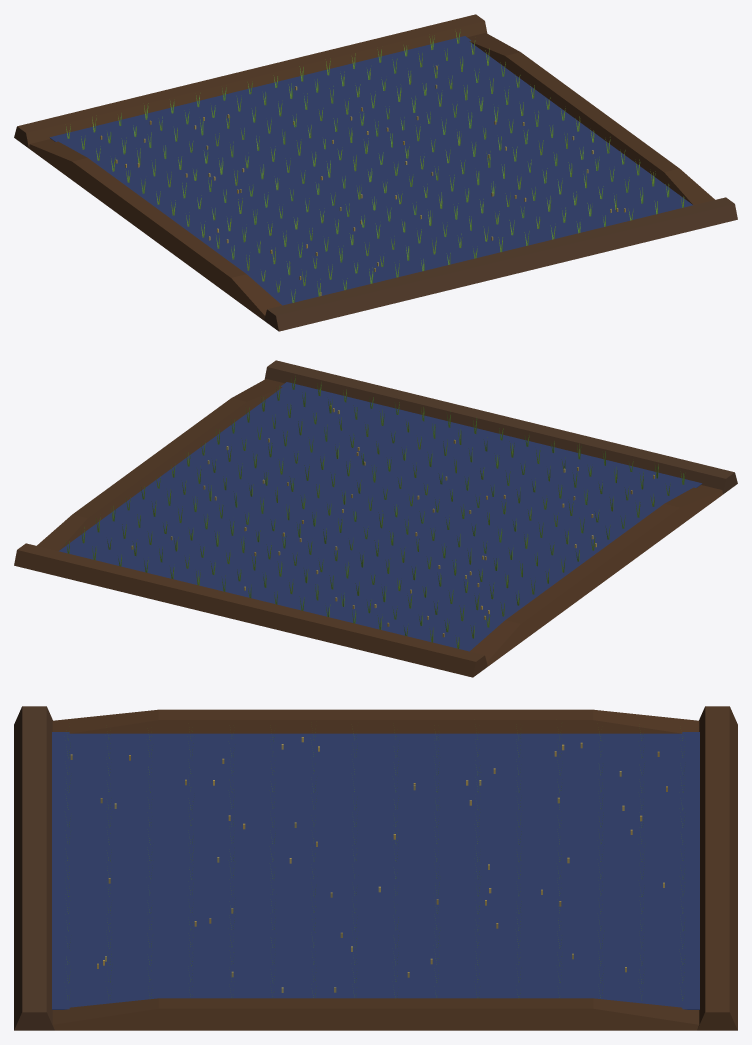
Rendered from ENV_Paddy_Plot_A.glb.
3 renders of one model, top to bottom at view 1: azimuth 30°, elevation 25°; view 2: azimuth 150°, elevation 25°; view 3: azimuth 270°, elevation 25°, orthographic. The views are drawn at different scales.
Parts seen in each view (by area): view 1: WATER_STATE_irrigated, ENV_Paddy_Plot_A_Mesh, STATE_irrigated, STATE_dry; view 2: WATER_STATE_irrigated, ENV_Paddy_Plot_A_Mesh, STATE_irrigated, STATE_dry; view 3: WATER_STATE_irrigated, ENV_Paddy_Plot_A_Mesh, STATE_irrigated, STATE_dry.
Boxes of the visible parts, <box> form: WATER_STATE_irrigated: <box>49,36,692,305</box>; ENV_Paddy_Plot_A_Mesh: <box>14,14,737,331</box>; STATE_irrigated: <box>66,29,684,302</box>; STATE_dry: <box>100,65,625,295</box>; WATER_STATE_irrigated: <box>59,382,702,651</box>; ENV_Paddy_Plot_A_Mesh: <box>14,360,737,677</box>; STATE_irrigated: <box>66,376,685,648</box>; STATE_dry: <box>131,405,654,637</box>; WATER_STATE_irrigated: <box>52,732,699,1009</box>; ENV_Paddy_Plot_A_Mesh: <box>14,706,737,1030</box>; STATE_irrigated: <box>66,730,684,1000</box>; STATE_dry: <box>70,737,667,992</box>.
Size of the model in its own units: 10.6 by 0.5086 by 10.6.
